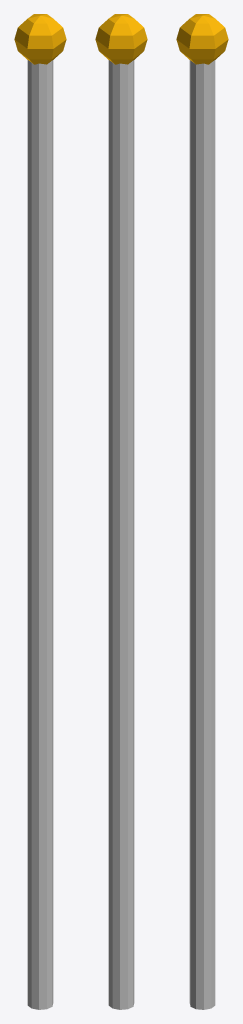
File: StreetLamp.cfef1171.dae
3 renders of one model, left to right at view 1: azimuth 30°, elevation 25°; view 2: azimuth 210°, elevation 25°; view 3: azimuth 330°, elevation 25°, orthographic.
Visible parts, largest first — view 1: Cylinder, Sphere; view 2: Cylinder, Sphere; view 3: Cylinder, Sphere.
Part boxes in pixels (x1,y1,x2,y2): Cylinder: [27, 60, 53, 1009]; Sphere: [14, 14, 66, 64]; Cylinder: [108, 60, 134, 1009]; Sphere: [95, 14, 147, 64]; Cylinder: [189, 60, 215, 1009]; Sphere: [176, 14, 228, 64].
Size of the model in its own units: 0.6928 by 0.8 by 16.7.
